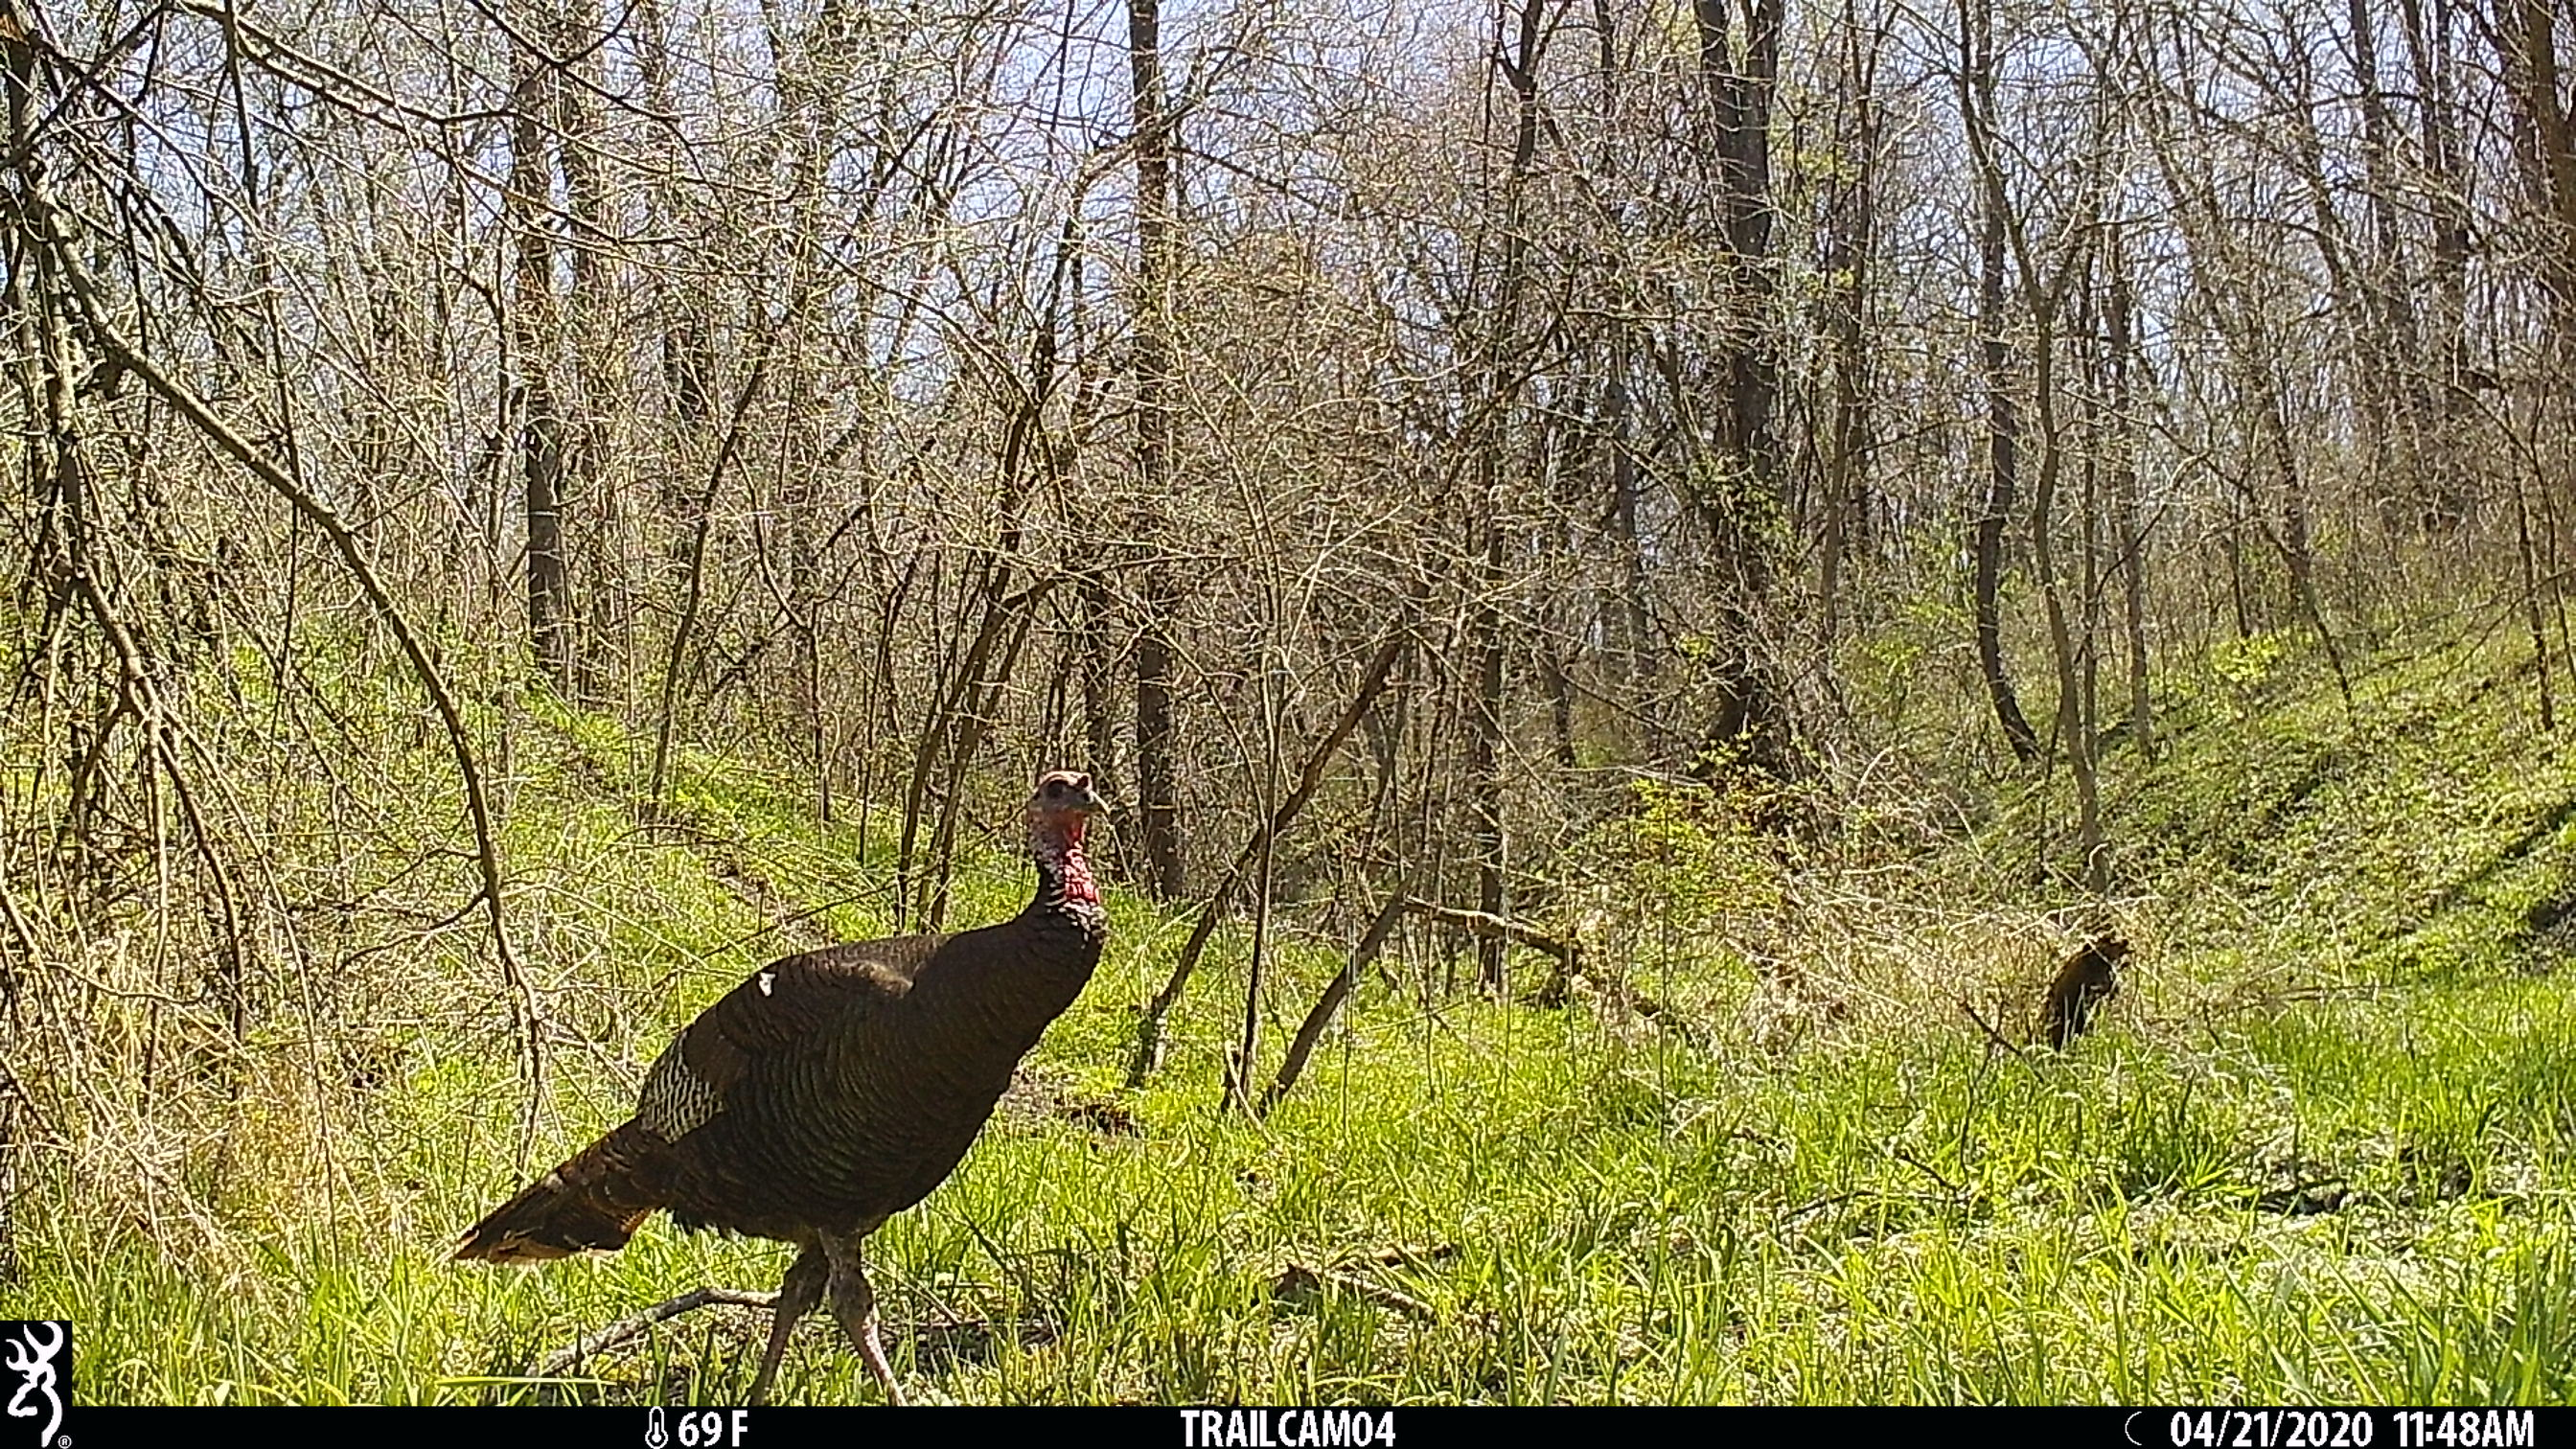Turkey: (439, 764, 1120, 1277)
